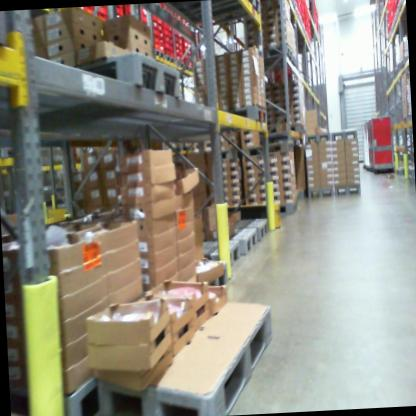pallet: (87, 292, 291, 416), (50, 45, 186, 124), (8, 345, 107, 416), (185, 0, 263, 33), (183, 234, 240, 271), (200, 226, 260, 258), (194, 257, 231, 307), (223, 99, 271, 130), (238, 198, 300, 222), (261, 115, 309, 142), (240, 140, 296, 160), (260, 51, 298, 76), (252, 41, 291, 64), (230, 218, 271, 238), (210, 145, 243, 161), (333, 182, 364, 199), (330, 126, 358, 144), (304, 186, 335, 200), (303, 130, 331, 145), (150, 44, 165, 62), (184, 61, 196, 77), (174, 56, 185, 72), (163, 53, 177, 64)
